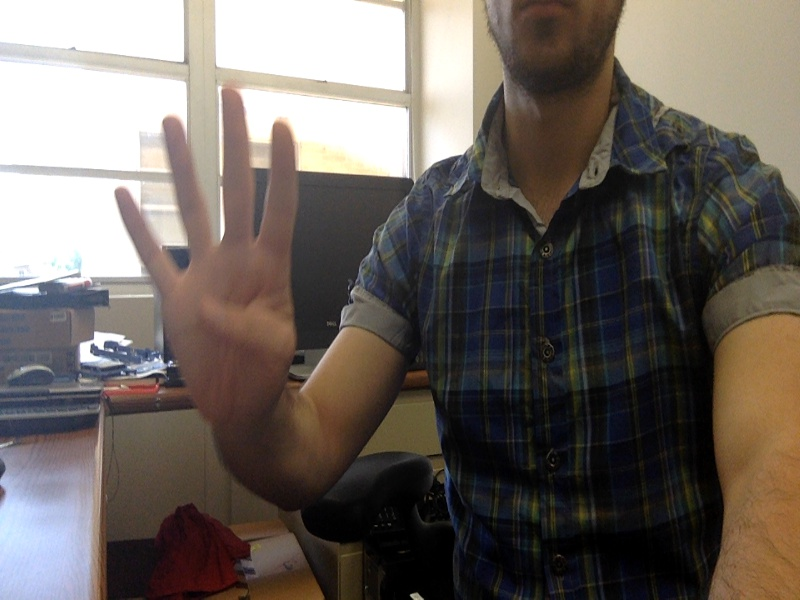4-hand: (113, 87, 298, 430)
